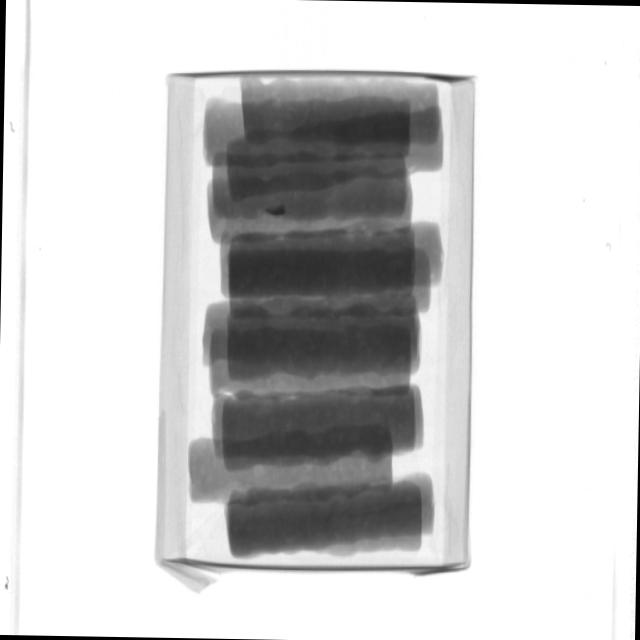ym: (266, 205, 287, 216)
